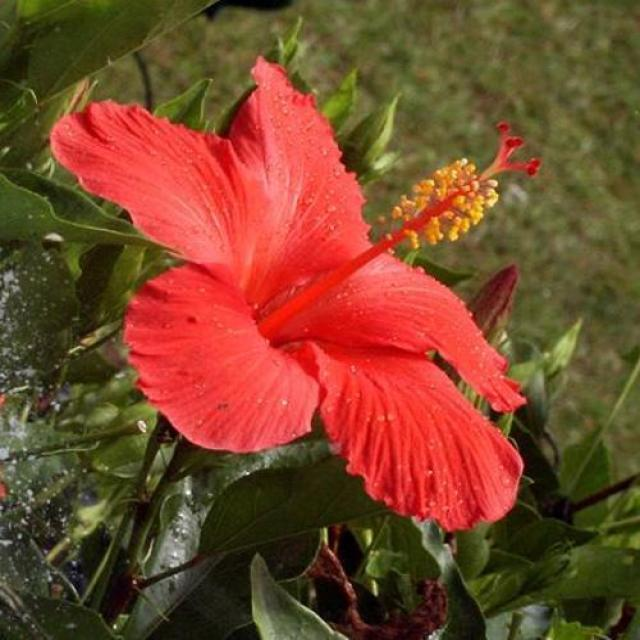hibiscus: (50, 26, 545, 599)
